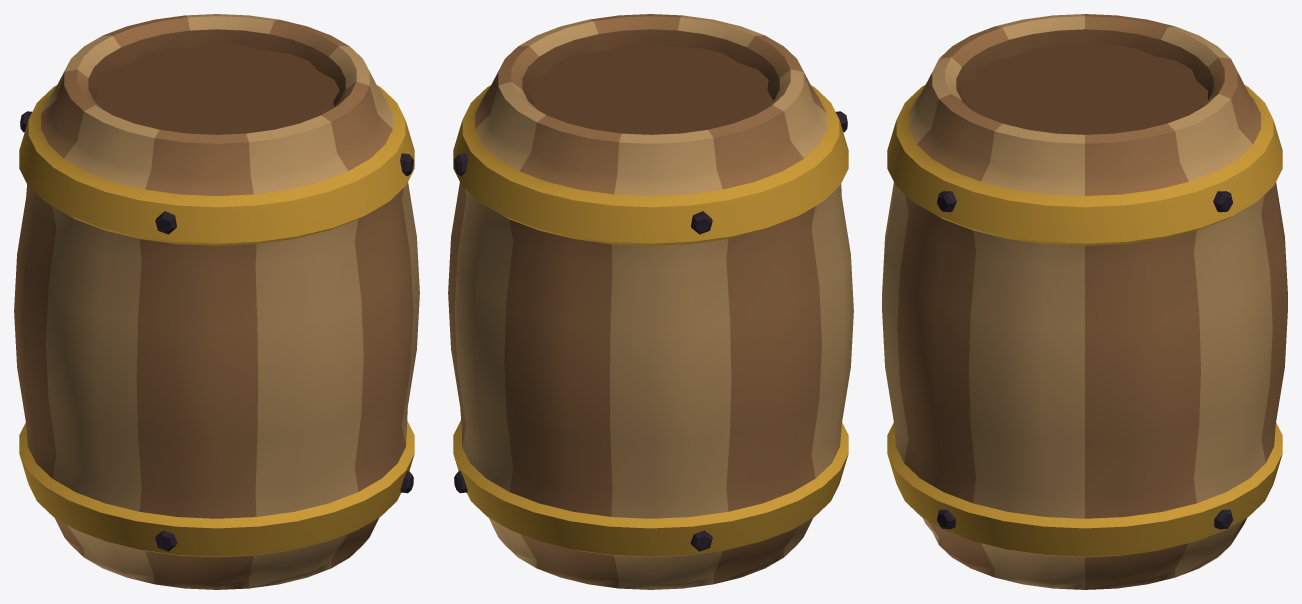
The model's file is Barrel_19.glb.
3 views of the same model, side by side, from view 1: azimuth 30°, elevation 25°; view 2: azimuth 150°, elevation 25°; view 3: azimuth 270°, elevation 25° (orthographic).
Parts seen in each view (by area): view 1: Barrel_19; view 2: Barrel_19; view 3: Barrel_19.
Part boxes in pixels (x1,y1,x2,y2): Barrel_19: [14, 14, 419, 589]; Barrel_19: [448, 14, 853, 589]; Barrel_19: [882, 14, 1287, 589].
Bounding box in the file's own units: 2.13 × 2.66 × 2.16.
